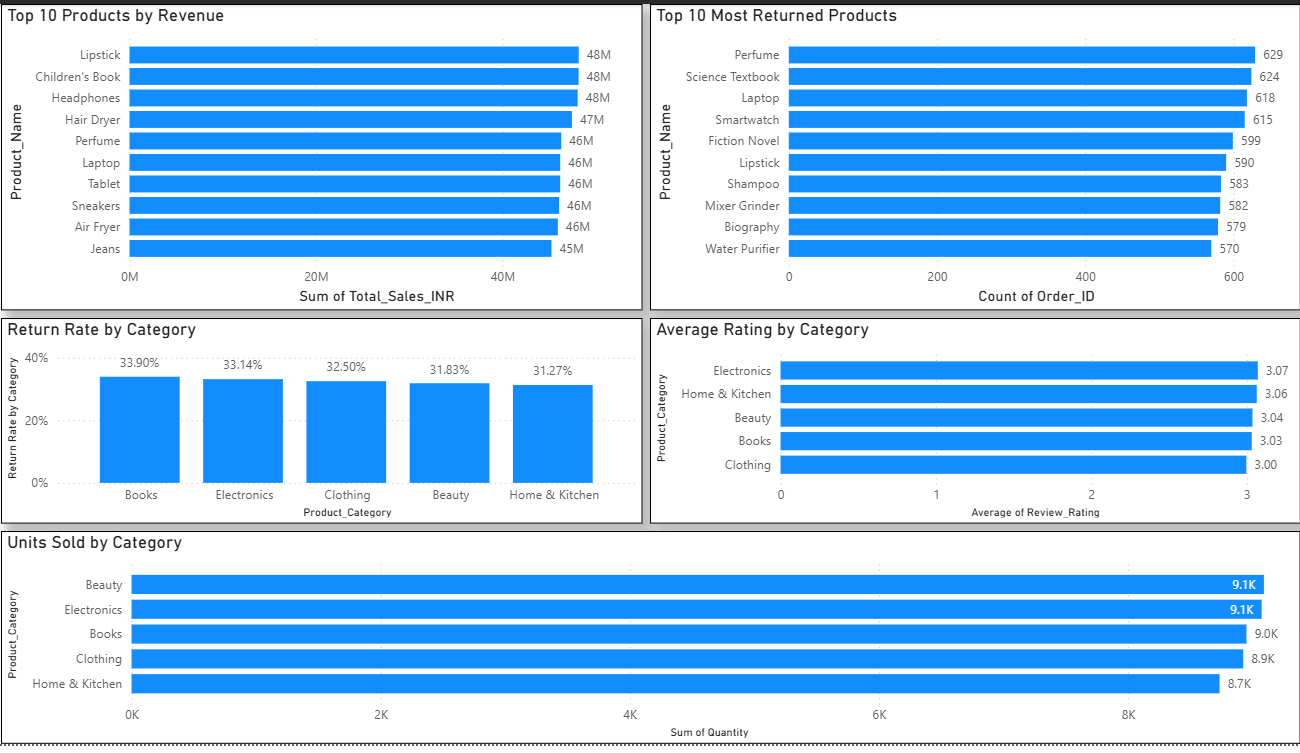

The page's visual inventory and layout, read from the dashboard file:
{"tool":"powerbi","page":{"name":"Category Deep Dive","canvas":[1280,720],"ordinal":1},"visuals":[{"type":"clusteredBarChart","title":"Top 10 Products by Revenue","fields":{"Category":["amazon_sales_2025_cleaned.Product_Name"],"Y":["Sum(amazon_sales_2025_cleaned.Total_Sales_INR)"]},"box":[9.7,0,624.4,297.6],"z":0},{"type":"clusteredBarChart","title":"Top 10 Most Returned Products","fields":{"Category":["amazon_sales_2025_cleaned.Product_Name"],"Y":["CountNonNull(amazon_sales_2025_cleaned.Order_ID)"]},"box":[641,0,633.2,297.6],"z":1000},{"type":"clusteredColumnChart","title":"Return Rate by Category","fields":{"Category":["amazon_sales_2025_cleaned.Product_Category"],"Y":["amazon_sales_2025_cleaned.Return Rate by Category"]},"box":[9.7,305.4,624.4,200.4],"z":2000},{"type":"clusteredBarChart","title":"Average Rating by Category","fields":{"Category":["amazon_sales_2025_cleaned.Product_Category"],"Y":["Avg(amazon_sales_2025_cleaned.Review_Rating)"]},"box":[641,305.4,633.2,200.4],"z":3000},{"type":"clusteredBarChart","title":"Units Sold by Category","fields":{"Y":["Sum(amazon_sales_2025_cleaned.Quantity)"],"Category":["amazon_sales_2025_cleaned.Product_Category"]},"box":[9.7,512.6,1264.4,207.2],"z":4000}]}

Visuals, with their boxes in screenshot pixels (x1, y1, x2, y2), scaled from the page's 1280x720 canvas onto the 1300x753 screenshot:
"Top 10 Products by Revenue" clusteredBarChart: region(10, 0, 644, 311)
"Top 10 Most Returned Products" clusteredBarChart: region(651, 0, 1294, 311)
"Return Rate by Category" clusteredColumnChart: region(10, 319, 644, 529)
"Average Rating by Category" clusteredBarChart: region(651, 319, 1294, 529)
"Units Sold by Category" clusteredBarChart: region(10, 536, 1294, 752)
